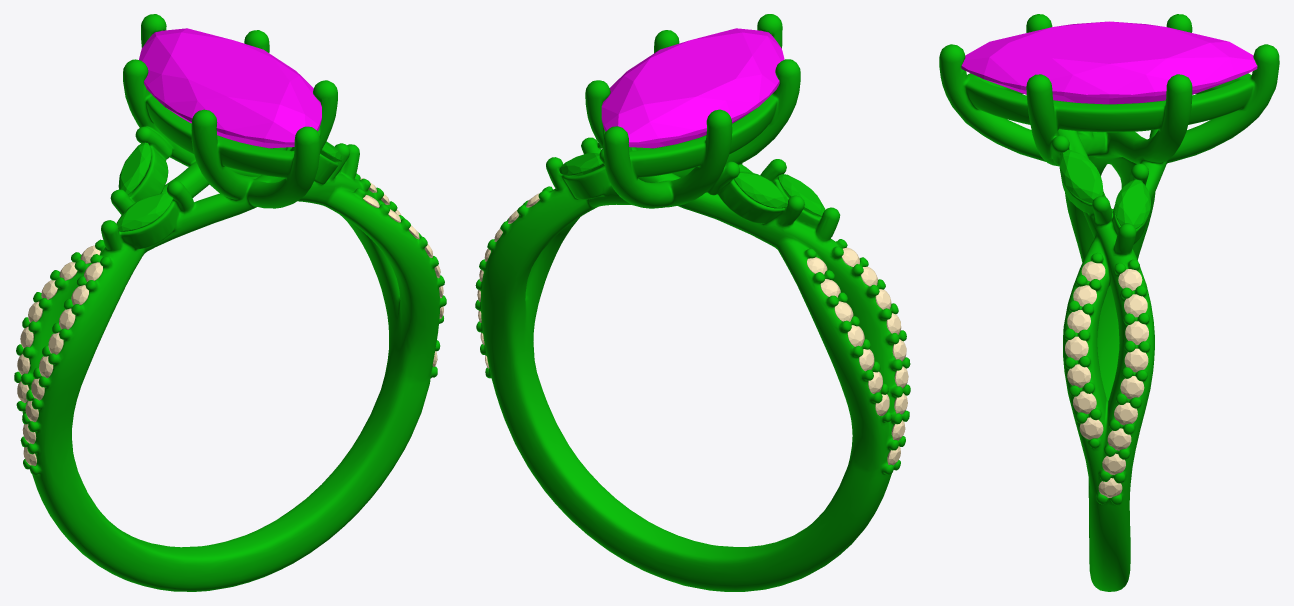
The model's file is BE1LCE1548_MQ_200ct_RENDER.glb.
3 renders of one model, left to right at view 1: azimuth 30°, elevation 25°; view 2: azimuth 150°, elevation 25°; view 3: azimuth 270°, elevation 25°, orthographic. The views are drawn at different scales.
Visible parts, largest first — view 1: Metal 01, CS_Diamond_Marquise, Emerald_Marquise_side.002, Emerald_Marquise_side.003; view 2: Metal 01, CS_Diamond_Marquise, Emerald_Marquise_side.003, Emerald_Marquise_side.002, Emerald_Marquise_side; view 3: Metal 01, CS_Diamond_Marquise, Emerald_Marquise_side.001, Emerald_Marquise_side.
Boxes of the visible parts, <box> form: Metal 01: <box>14,14,446,591</box>; CS_Diamond_Marquise: <box>139,28,321,148</box>; Emerald_Marquise_side.002: <box>116,193,173,231</box>; Emerald_Marquise_side.003: <box>118,142,151,194</box>; Metal 01: <box>475,14,910,591</box>; CS_Diamond_Marquise: <box>601,28,784,148</box>; Emerald_Marquise_side.003: <box>734,171,787,208</box>; Emerald_Marquise_side.002: <box>778,174,825,217</box>; Emerald_Marquise_side: <box>559,153,604,176</box>; Metal 01: <box>939,14,1279,591</box>; CS_Diamond_Marquise: <box>961,21,1257,104</box>; Emerald_Marquise_side.001: <box>1059,149,1102,203</box>; Emerald_Marquise_side: <box>1115,179,1150,228</box>.
Size of the model in its own units: 20.62 by 24.42 by 14.29.
